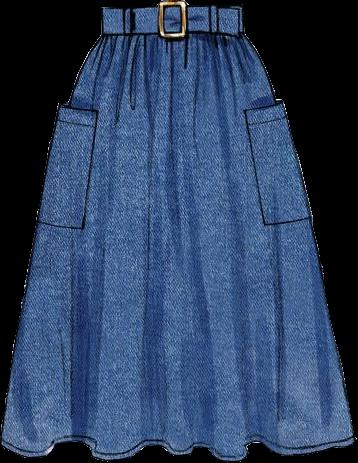Hemline: (0, 437, 354, 462)
Waistline: (100, 26, 243, 38), (101, 1, 239, 11)
